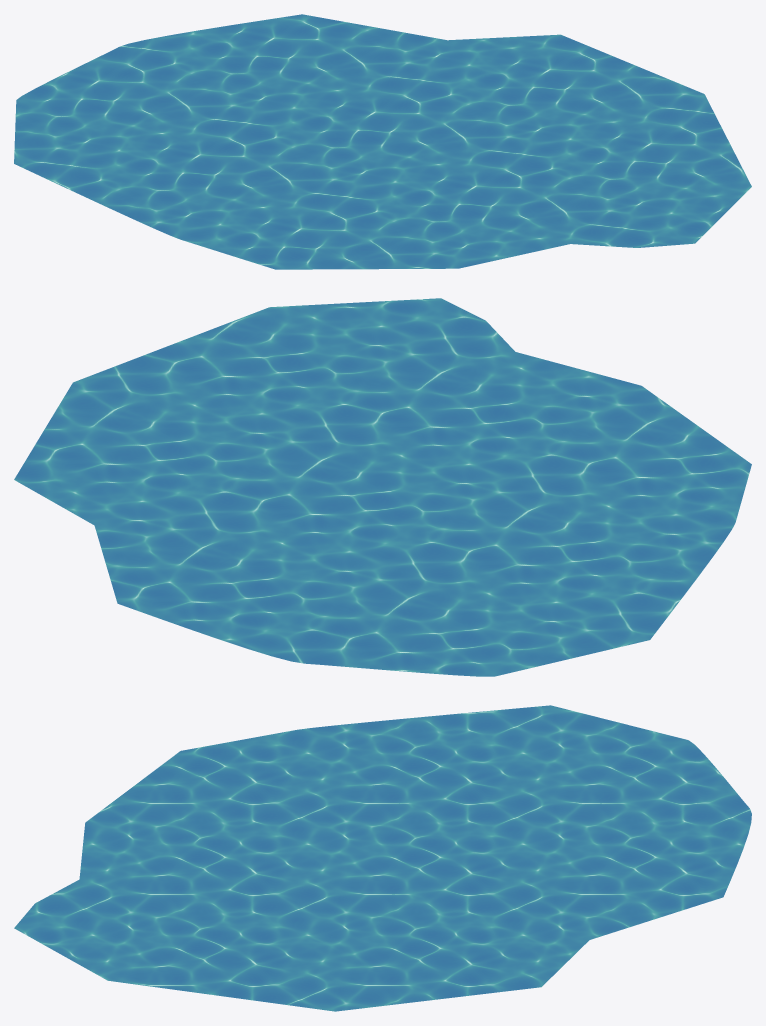
Rendered from water.dae.
3 views of the same model, one above another, from view 1: azimuth 30°, elevation 25°; view 2: azimuth 150°, elevation 25°; view 3: azimuth 270°, elevation 25° (orthographic). The views are drawn at different scales.
Parts seen in each view (by area): view 1: water; view 2: water; view 3: water.
Part boxes in pixels (x1,y1,x2,y2): water: (14,14,751,269); water: (14,298,751,676); water: (14,705,751,1011).
Size of the model in its own units: 10.1 by 10.28 by 4.2e-07.
Materials: 1 (1 with a texture image).
